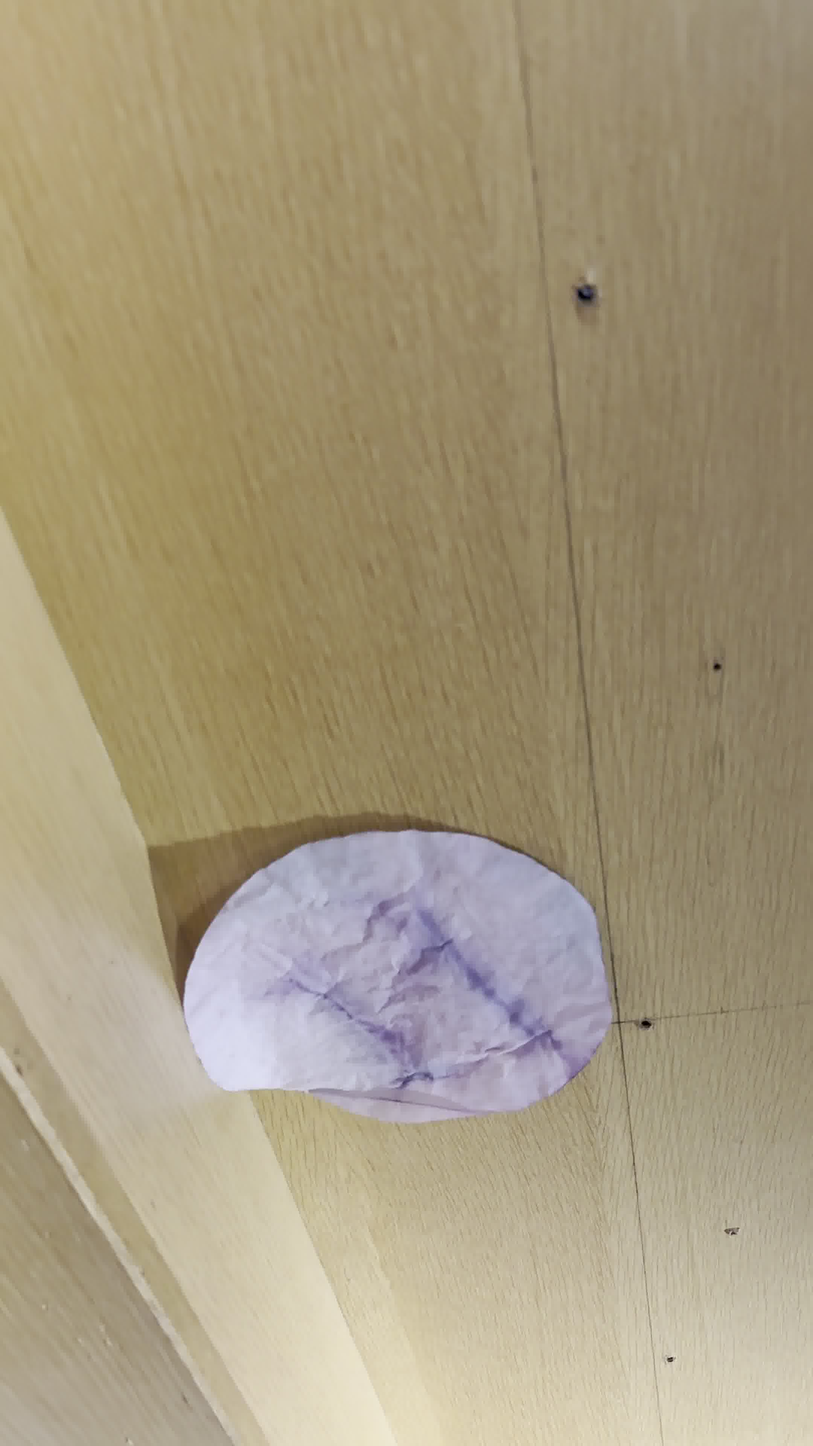Target: (183, 831, 613, 1123)
